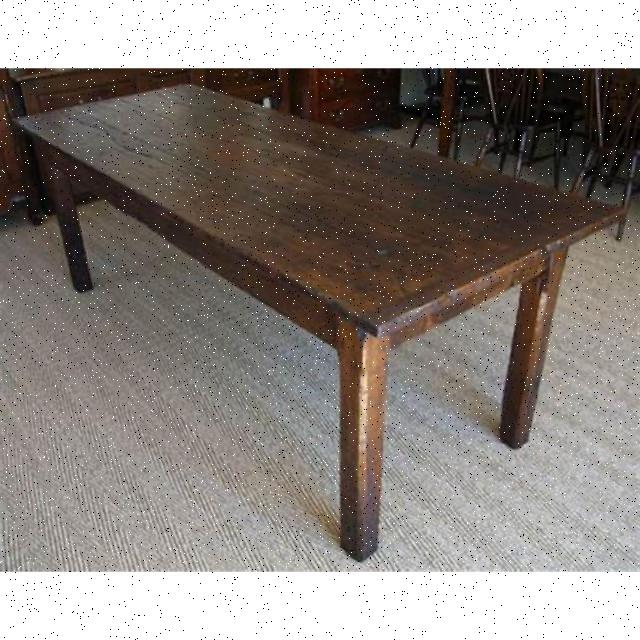mobile-phone: (12, 82, 624, 561)
